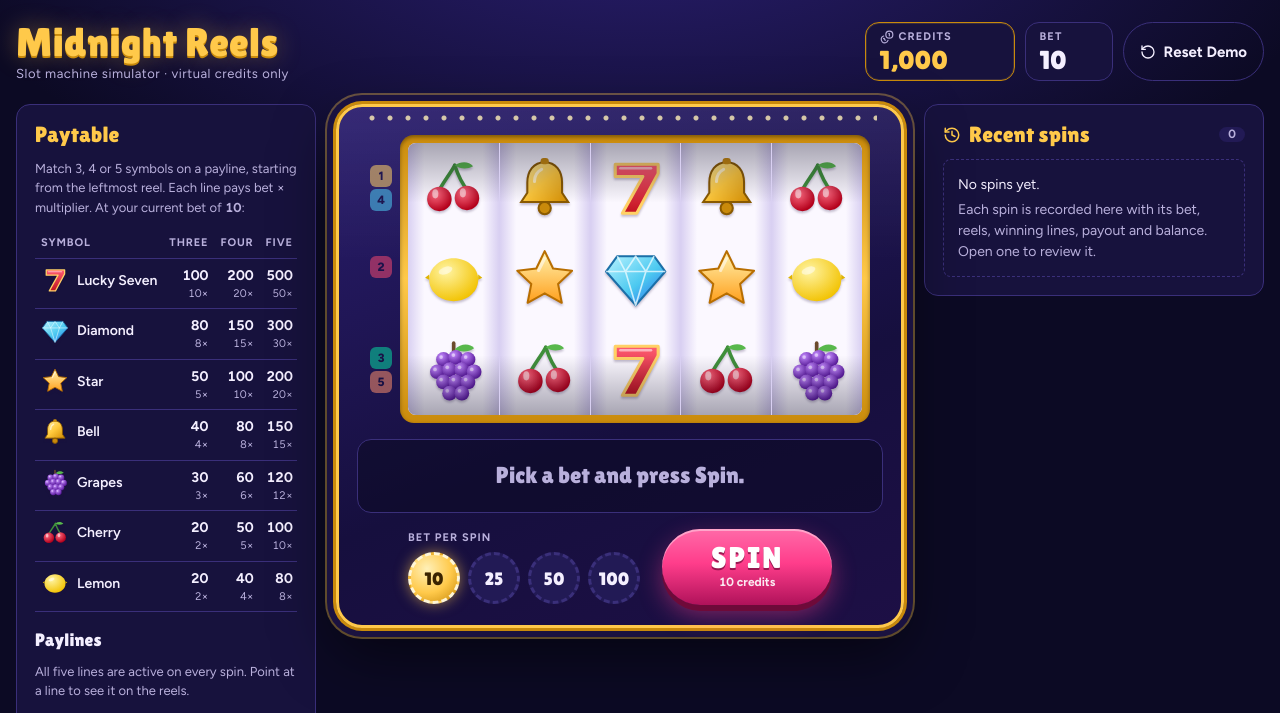
it: App › resets only after confirmation, and a spin in flight cannot pay into the new game
Click the button "Spin 10 credits". click: (747, 567)
box: [662,529,832,605]
Wait 3000 ms
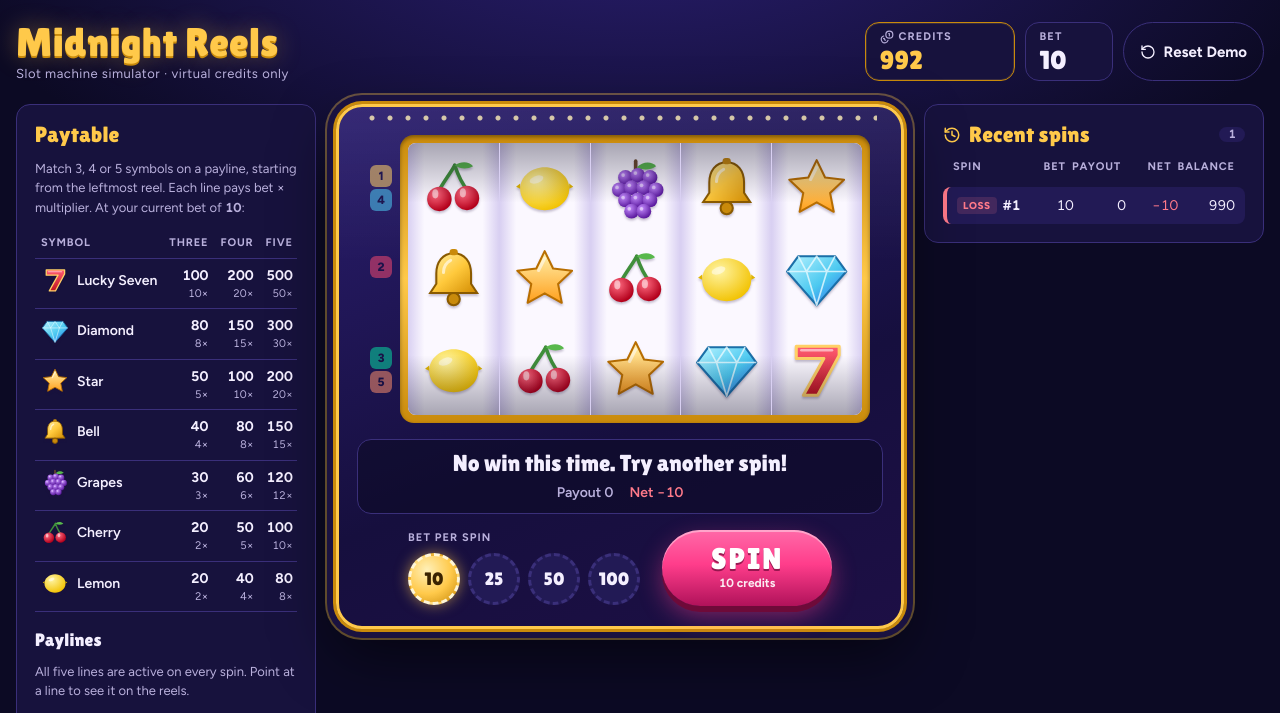
Click the button "Reset Demo". click: (1193, 52)
box: [1122,22,1264,81]
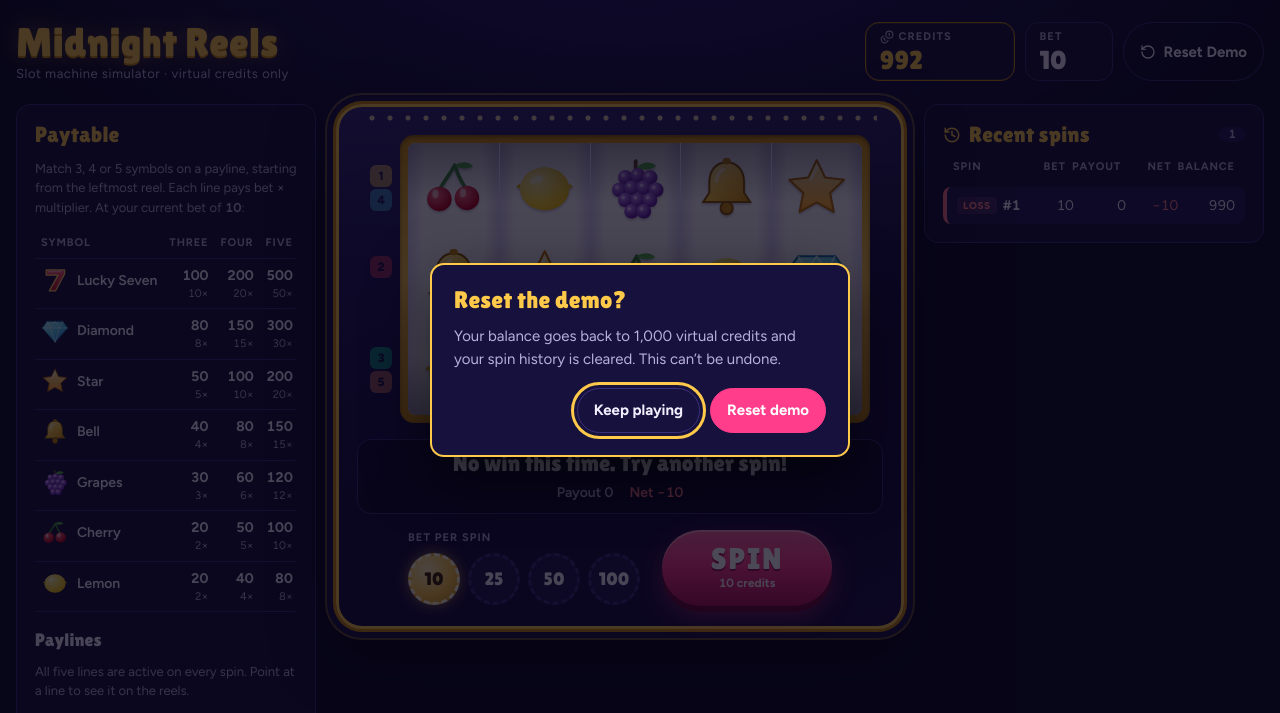
Click the button "Keep playing". click: (638, 411)
box: [577,388,700,433]
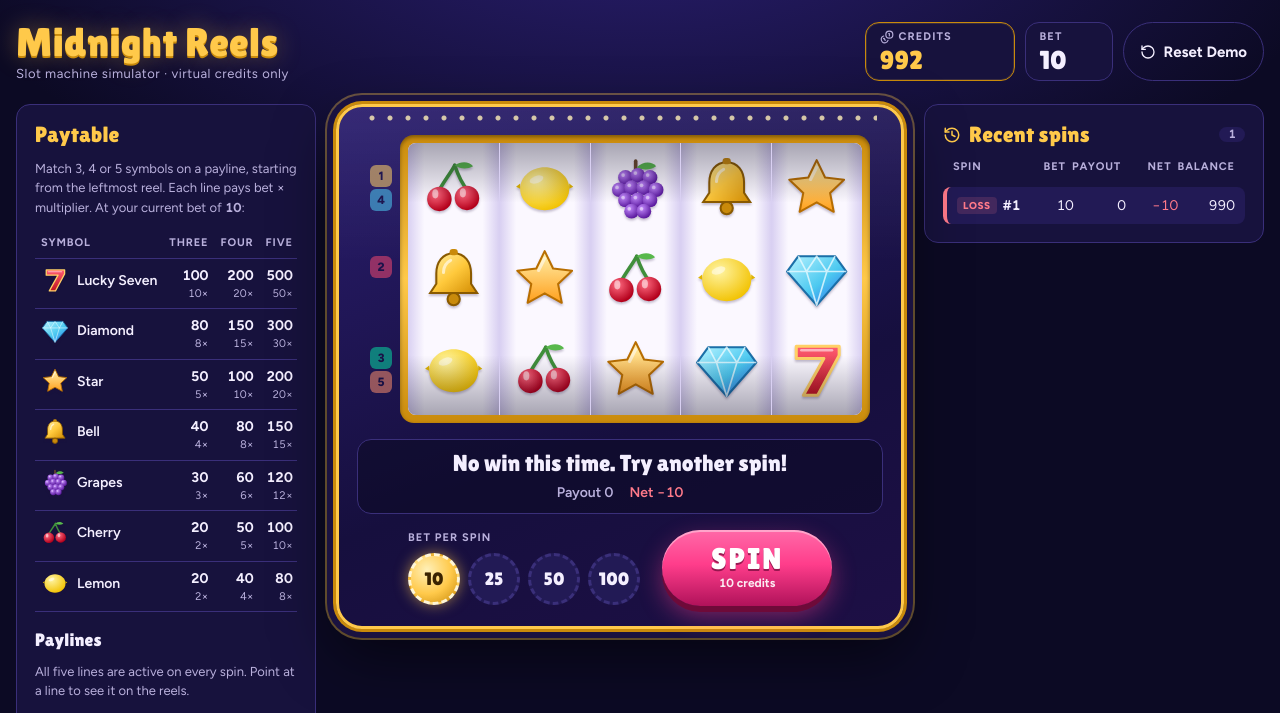
Click the button "Reset Demo". click: (1193, 52)
box: [1122,22,1264,81]
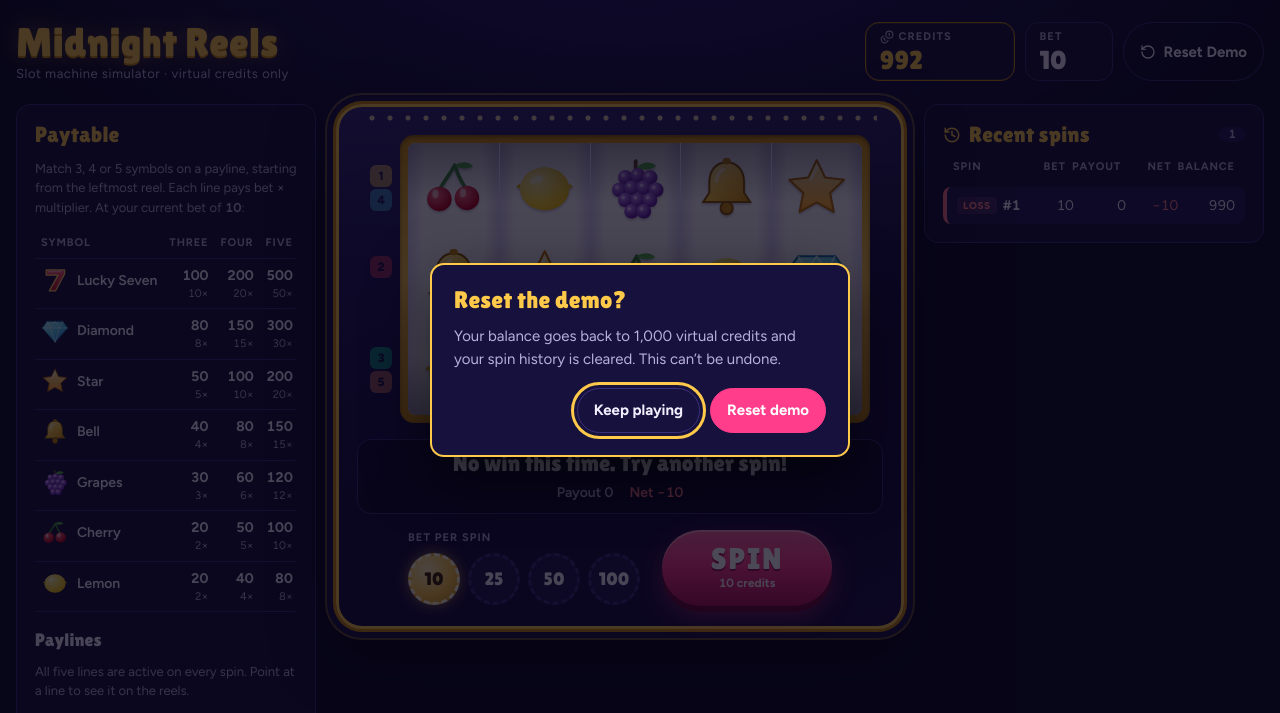
Click the button "Reset demo". click: (768, 411)
box: [710,388,826,433]
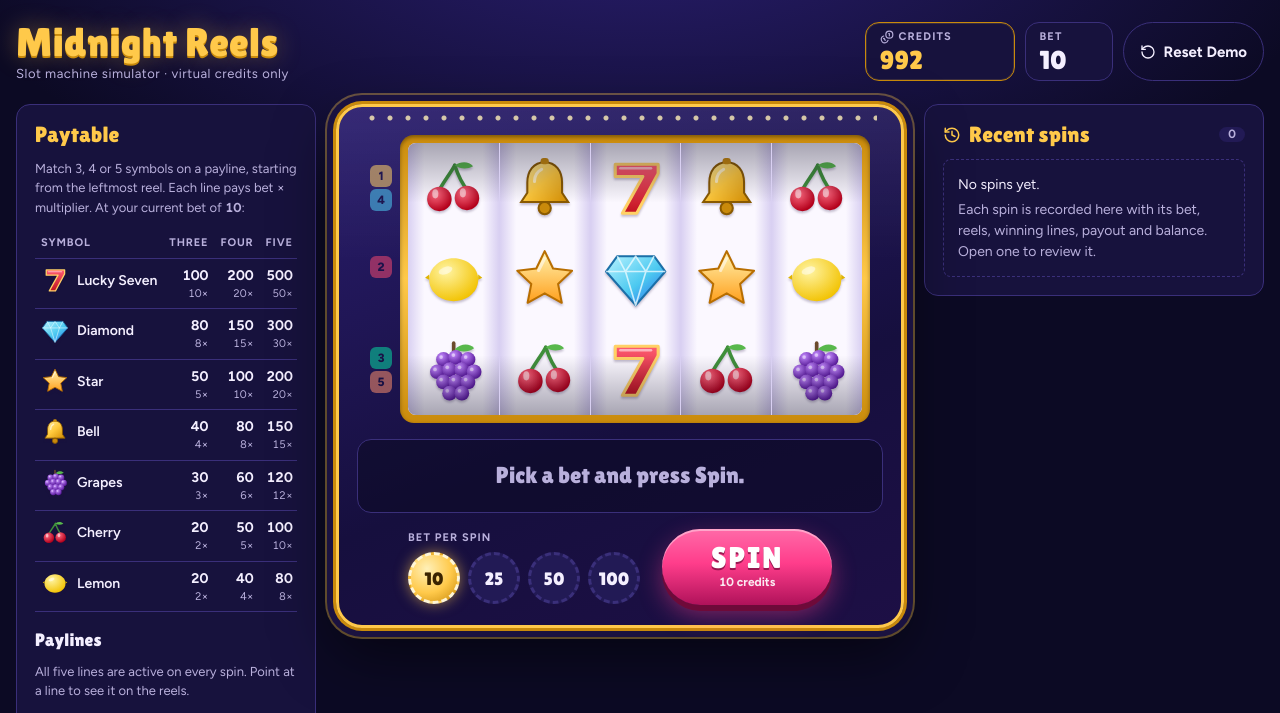
Result: the text "No spins yet." is shown at [958,176,1039,193]
